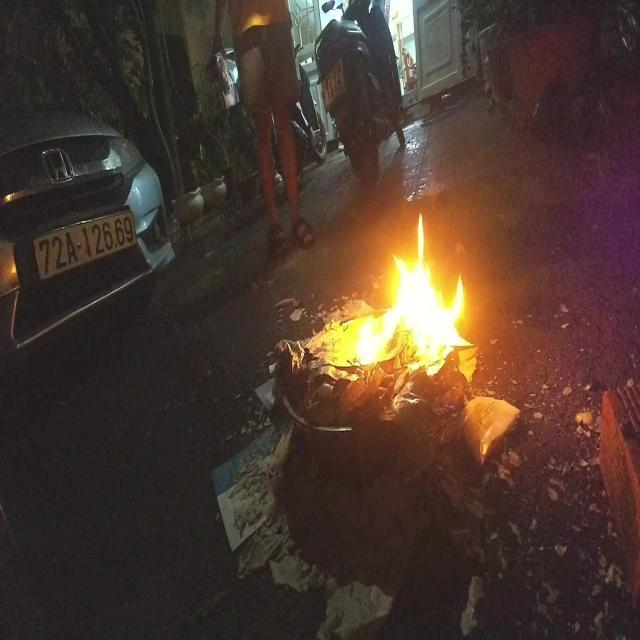Fire: (357, 210, 469, 366)
